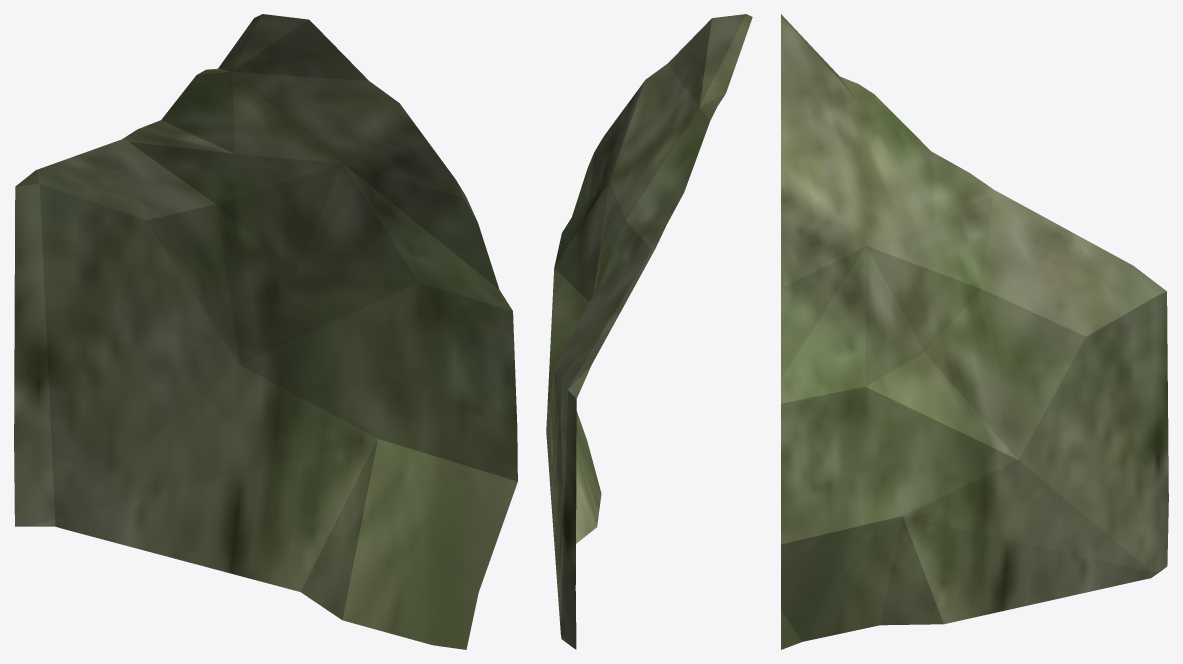
The picture shows the model from 3 angles, left to right: view 1: azimuth 30°, elevation 25°; view 2: azimuth 150°, elevation 25°; view 3: azimuth 270°, elevation 25°; orthographic projection. The views are drawn at different scales.
Bounding box in the file's own units: 0.3208 × 0.7968 × 0.5055.
Materials: 1 (1 with a texture image).
